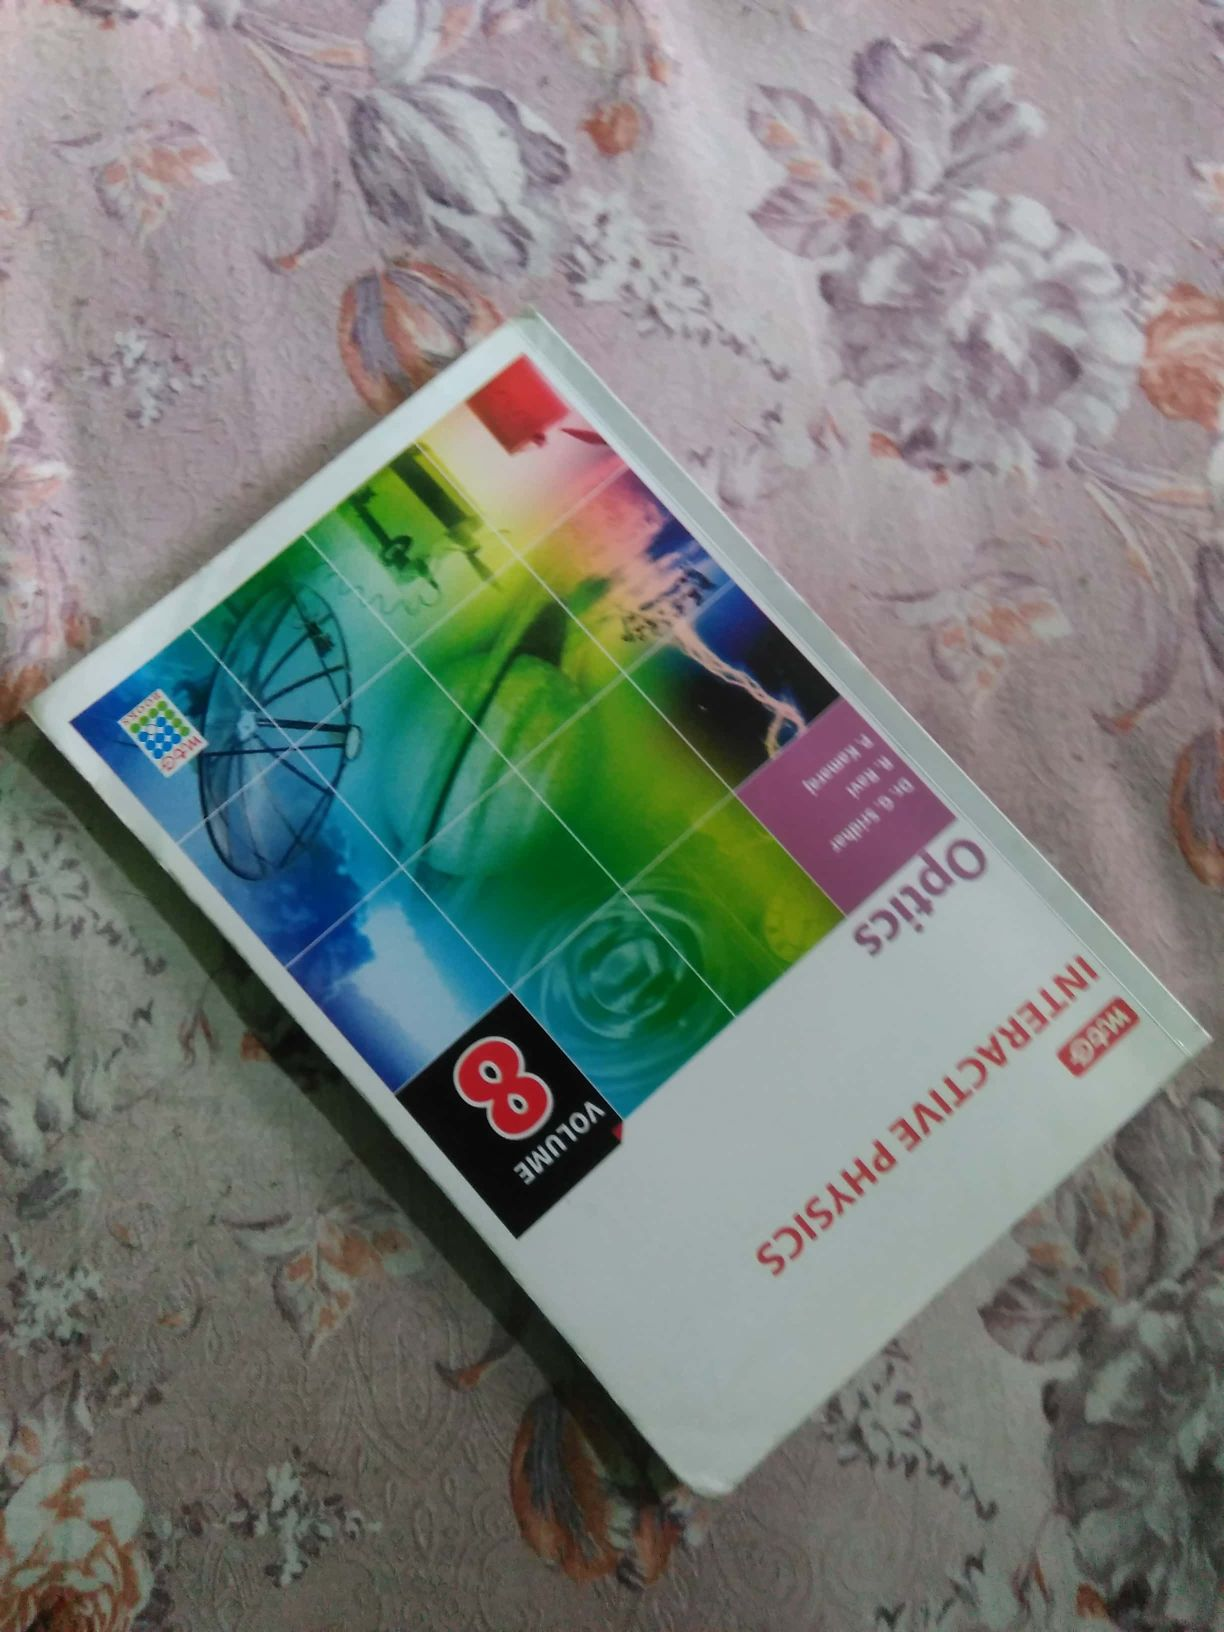optics: (64, 319, 1197, 1502)
